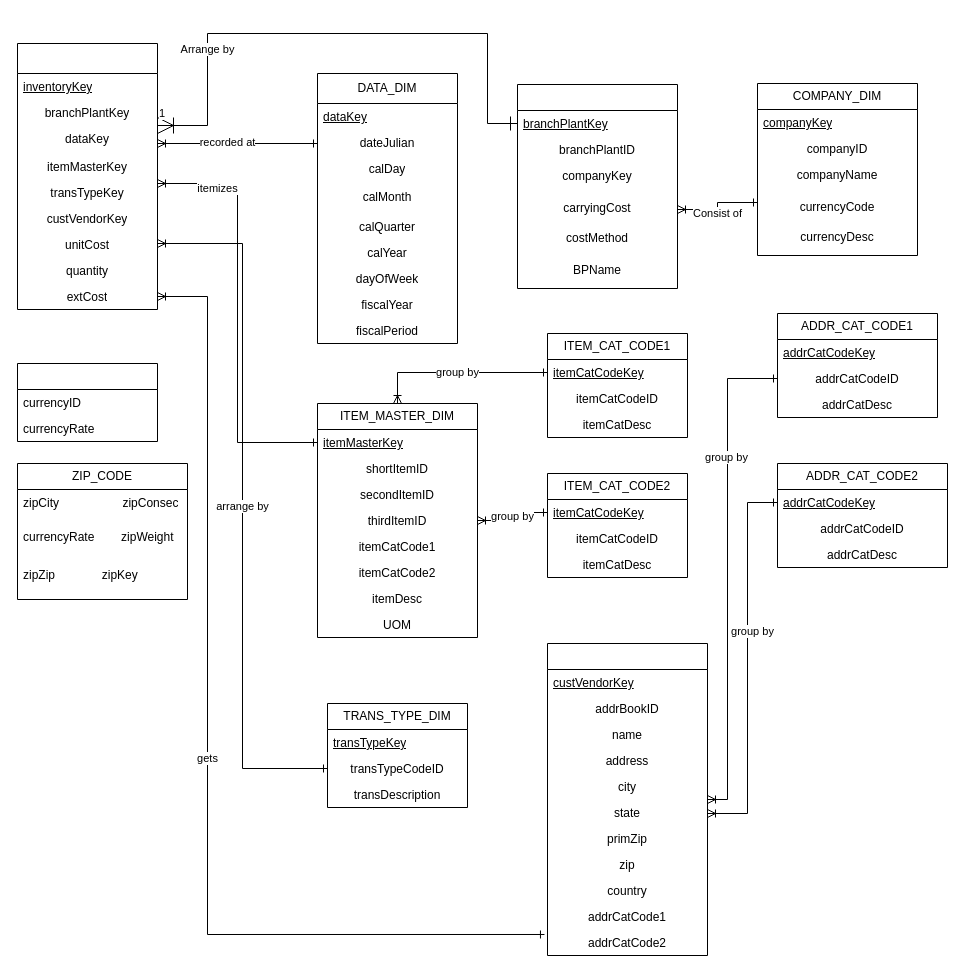
The diagram is 965 pixels wide and 976 high, and some of its shapes have lost their labels. The shapes that lost their labels are listed below. From the top down, each one's box as (x1, y1, x2, y2) in pixels, then its label:
(16, 42, 158, 310): INVENTORY_FACT
(516, 84, 678, 288): BRANCH_PLANT_DIM
(16, 362, 158, 442): CURRENCY_DIM
(546, 642, 708, 956): CUST_VENDOR_DIM
